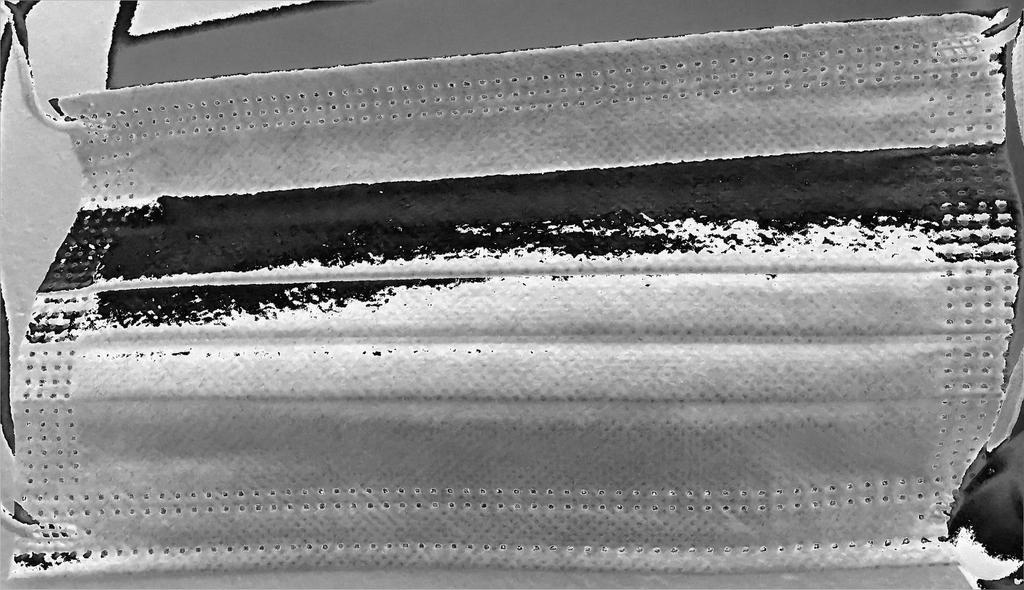High GSM: (80, 145, 934, 500)
